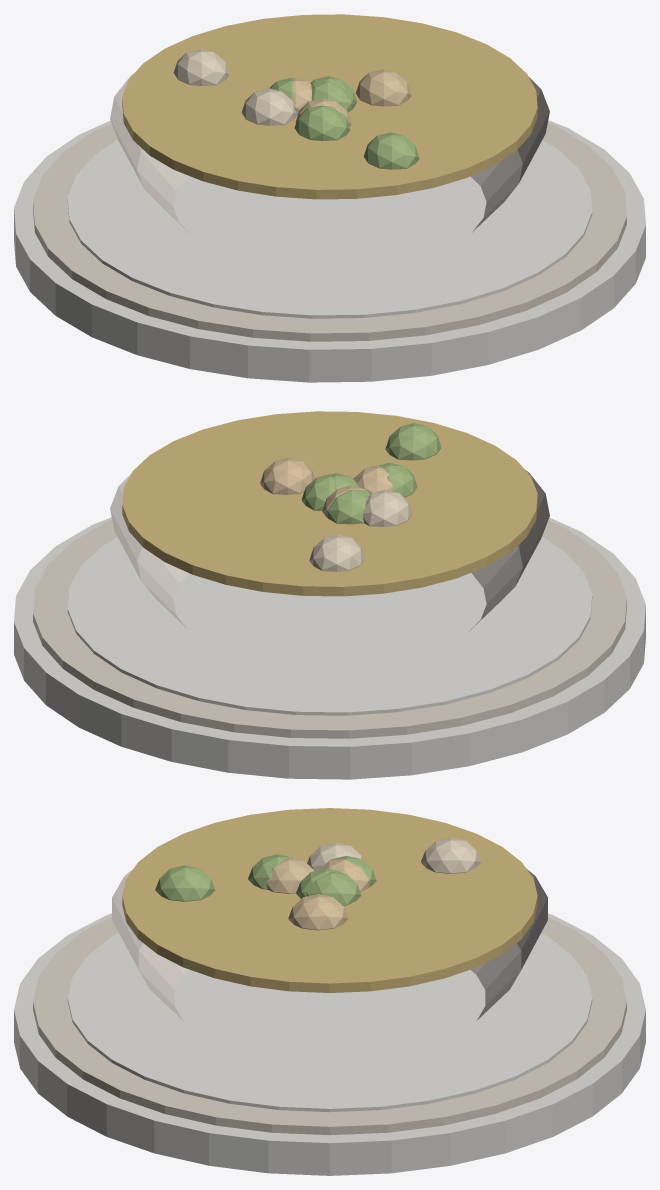
The model's file is sup_ga.glb.
The picture shows the model from 3 angles, top to bottom: view 1: azimuth 30°, elevation 25°; view 2: azimuth 150°, elevation 25°; view 3: azimuth 270°, elevation 25°; orthographic projection.
Parts seen in each view (by area): view 1: obj_0002, obj_0004, obj_0000, obj_0001, obj_0003, obj_0013, obj_0009, obj_0008, obj_0012, obj_0005, obj_0007; view 2: obj_0002, obj_0004, obj_0000, obj_0001, obj_0003, obj_0009, obj_0008, obj_0013, obj_0012, obj_0006, obj_0010, obj_0005 (+1 smaller); view 3: obj_0002, obj_0004, obj_0000, obj_0001, obj_0003, obj_0008, obj_0009, obj_0013, obj_0014, obj_0010, obj_0012, obj_0005 (+1 smaller).
Part boxes in pixels (x1,y1,x2,y2): obj_0002: (67, 139, 592, 318); obj_0004: (122, 14, 537, 199); obj_0000: (14, 120, 645, 382); obj_0001: (33, 123, 626, 341); obj_0003: (110, 73, 549, 234); obj_0013: (356, 69, 411, 106); obj_0009: (363, 132, 419, 169); obj_0008: (173, 48, 229, 85); obj_0012: (241, 88, 297, 125); obj_0005: (294, 105, 350, 140); obj_0007: (311, 81, 355, 112); obj_0002: (67, 536, 592, 715); obj_0004: (122, 411, 537, 596); obj_0000: (14, 517, 645, 779); obj_0001: (33, 520, 626, 738); obj_0003: (110, 470, 549, 631); obj_0009: (385, 423, 441, 460); obj_0008: (309, 534, 364, 571); obj_0013: (260, 457, 314, 494); obj_0012: (362, 489, 412, 526); obj_0006: (327, 489, 370, 524); obj_0010: (301, 474, 334, 510); obj_0005: (378, 462, 417, 497); obj_0002: (67, 933, 592, 1112); obj_0004: (122, 808, 537, 992); obj_0000: (14, 913, 645, 1175); obj_0001: (33, 917, 626, 1135); obj_0003: (112, 869, 547, 1020); obj_0008: (421, 837, 480, 873); obj_0009: (155, 865, 215, 901); obj_0013: (288, 894, 348, 930); obj_0014: (266, 857, 314, 893); obj_0010: (306, 872, 361, 905); obj_0012: (307, 842, 362, 870); obj_0005: (248, 854, 293, 889).
Bounding box in the file's own units: 2.1 × 0.62 × 2.1.
